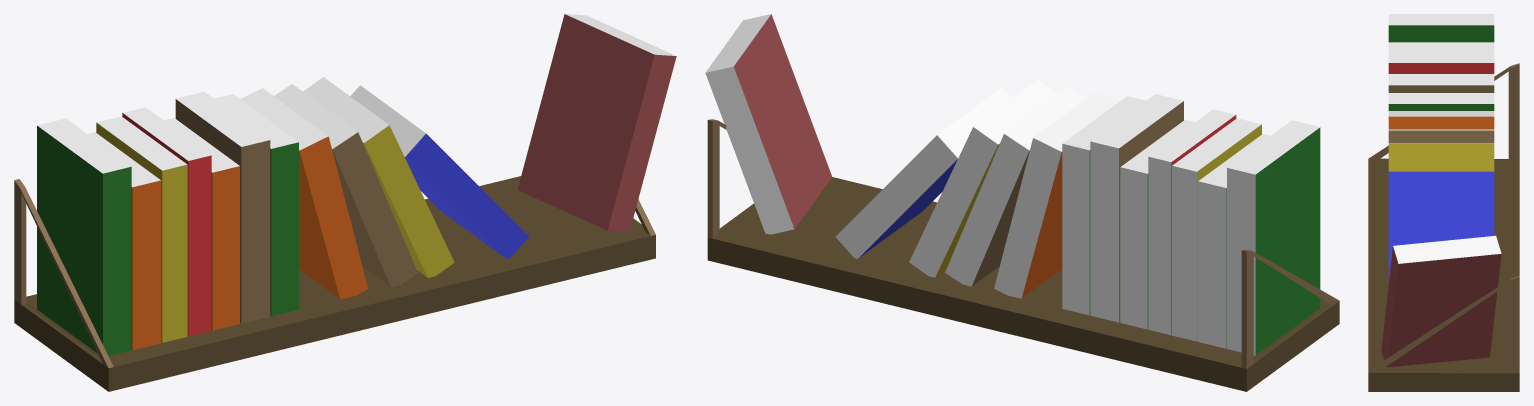
Rendered from books1.glb.
3 views of the same model, side by side, from view 1: azimuth 30°, elevation 25°; view 2: azimuth 150°, elevation 25°; view 3: azimuth 270°, elevation 25° (orthographic). The views are drawn at different scales.
Parts seen in each view (by area): view 1: WallBookshelf; view 2: WallBookshelf; view 3: WallBookshelf.
Part boxes in pixels (left/top/right/bottom): WallBookshelf: left=14, top=14, right=676, bottom=391; WallBookshelf: left=705, top=14, right=1339, bottom=391; WallBookshelf: left=1368, top=14, right=1519, bottom=391.
Size of the model in its own units: 5.75 by 1.94 by 1.6.
Materials: 1 (1 with a texture image).
